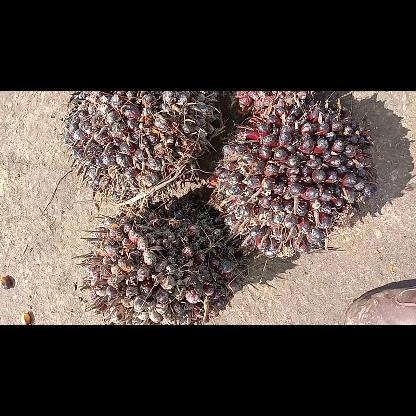Kurang masak: (212, 102, 378, 258), (78, 206, 250, 324), (60, 91, 224, 204), (226, 90, 316, 118)
